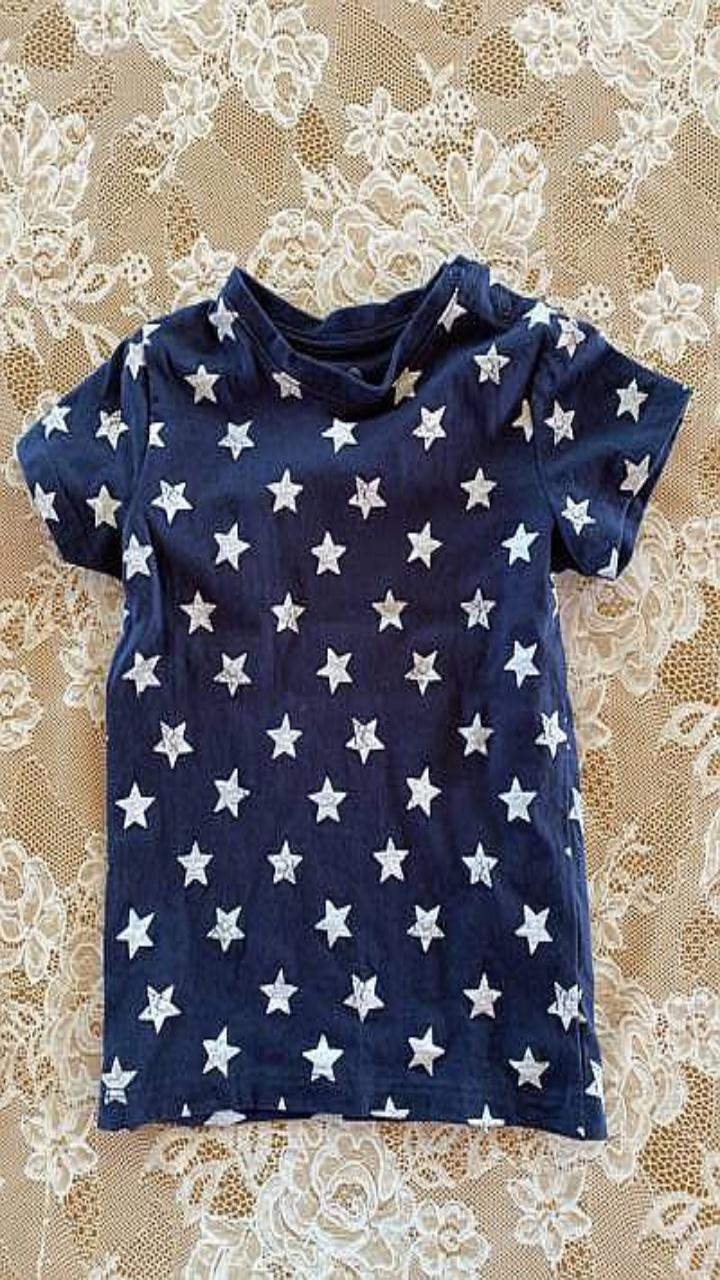T-Shirt: (17, 254, 691, 1139)
